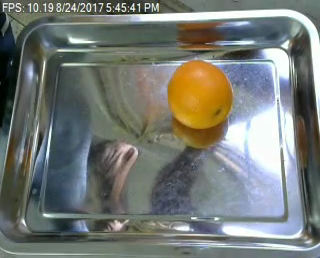Orange: (165, 56, 232, 132)
